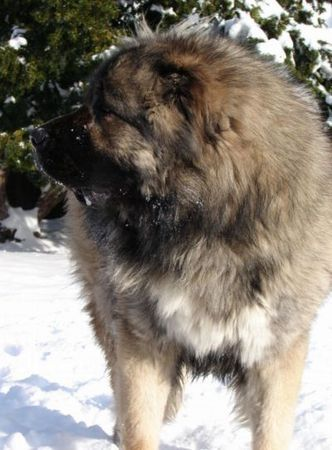cau_ovcharka: (29, 16, 332, 450)
